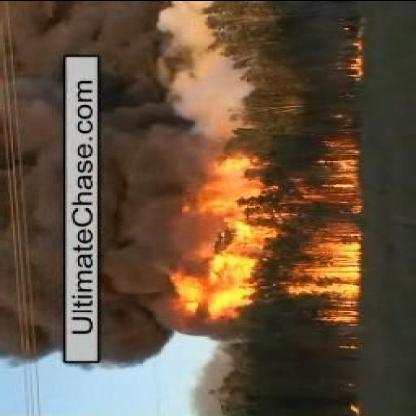-: (10, 42, 60, 364)
foggia-v2-map80-epoch100 - v1 4323: (288, 239, 360, 296)
